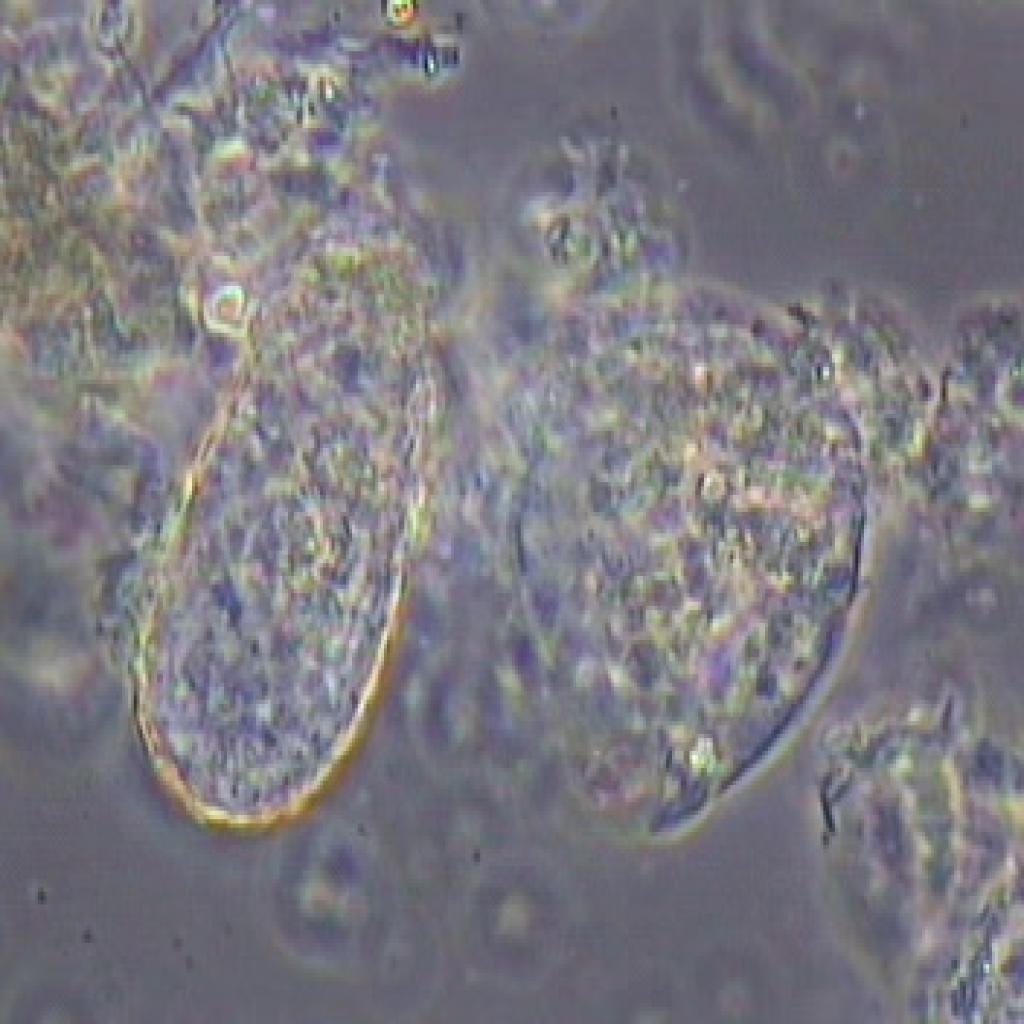Euglypha: (134, 254, 439, 838)
